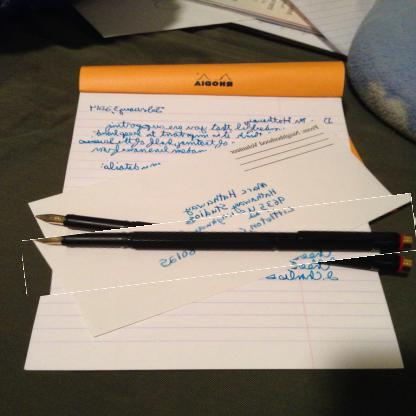Pen: (21, 205, 415, 287)
